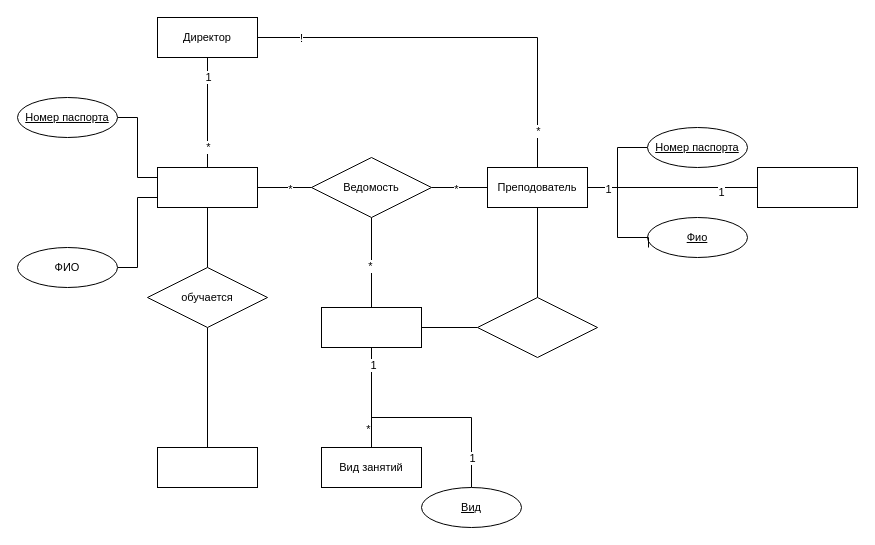
This 875x545 diagram has some shape labels left out. The centre of each missing label's shape, as x and y in pixels:
"Гуппа" goes at [207,467].
"дисциплина" goes at [371,327].
"должность" goes at [807,187].
"Нагрузка" goes at [537,327].
"Студент" goes at [207,187].
